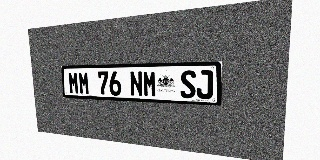6: (109, 71, 121, 96)
7: (97, 71, 109, 95)
J: (196, 70, 213, 99)
M: (143, 71, 157, 97), (78, 72, 90, 95), (68, 72, 79, 94)
N: (129, 71, 143, 97)
S: (180, 70, 196, 98)
